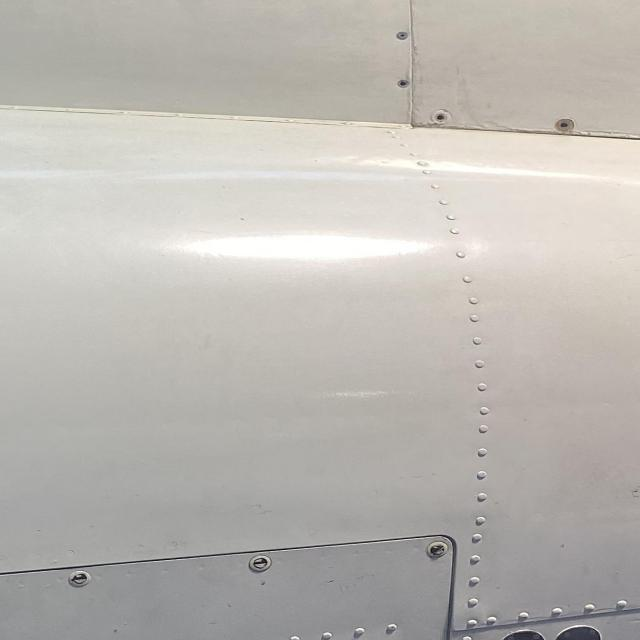Missing-head: (555, 118, 574, 132), (432, 109, 448, 123), (396, 77, 410, 90)
